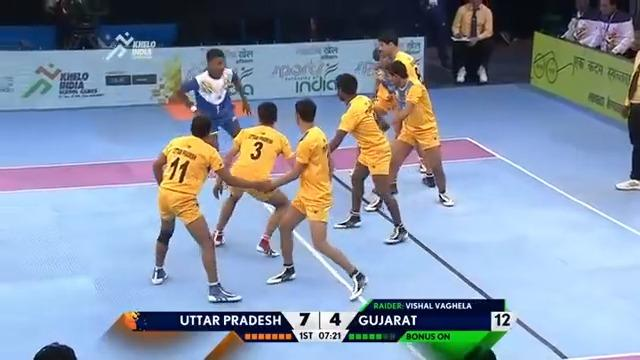Player: (256, 98, 368, 301), (150, 114, 242, 303), (326, 72, 408, 244), (364, 59, 454, 209), (211, 101, 296, 257), (614, 49, 639, 190)
Raider: (178, 47, 251, 151)
referee: (372, 29, 430, 179), (449, 0, 494, 83), (572, 0, 635, 56), (53, 0, 108, 49), (559, 0, 596, 41)
